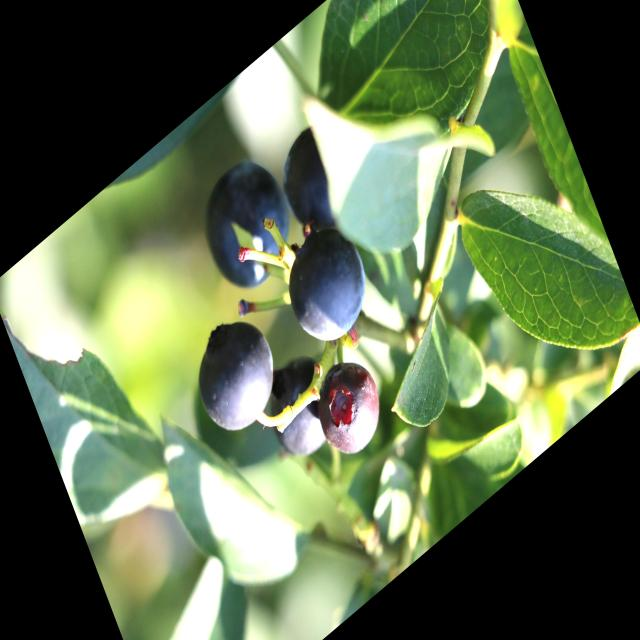blueberry: (192, 141, 302, 307), (276, 203, 383, 365), (185, 299, 288, 453), (309, 345, 391, 470), (261, 349, 341, 472), (271, 120, 348, 246)
